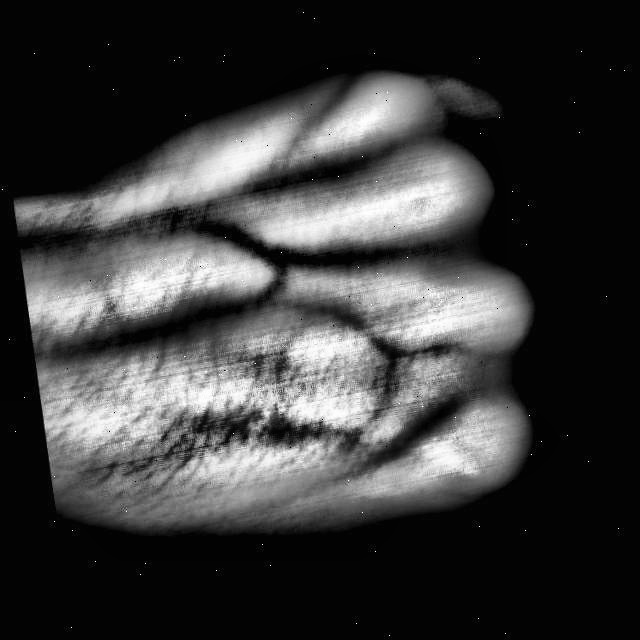Vein: (73, 285, 257, 366)
